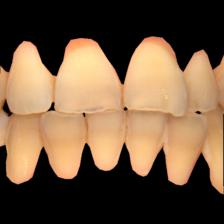cavity: (50, 75, 58, 100), (84, 118, 92, 141), (120, 84, 126, 106), (165, 113, 175, 124)
tooth: (124, 34, 184, 117), (56, 36, 124, 109), (7, 38, 54, 113), (41, 113, 91, 182), (87, 112, 130, 173), (128, 111, 165, 177), (184, 44, 219, 113), (9, 115, 38, 184)
